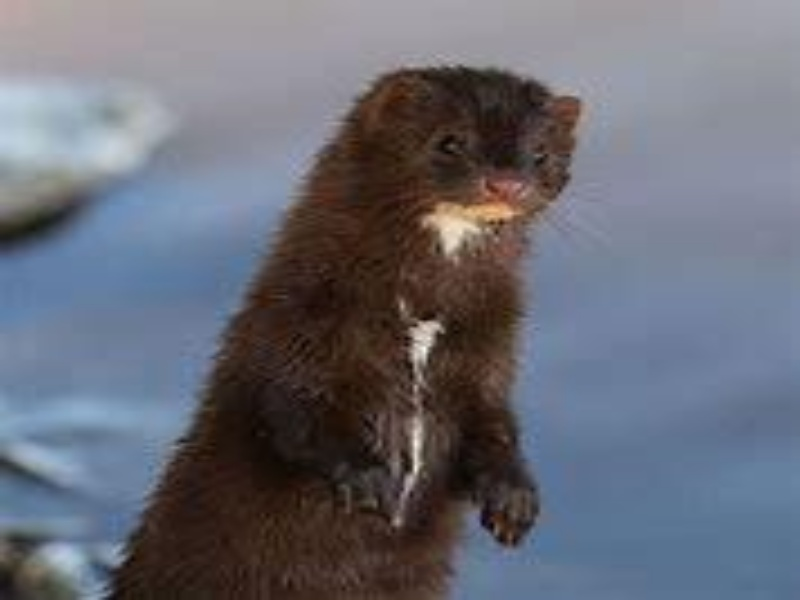minkish: (100, 58, 590, 599)
